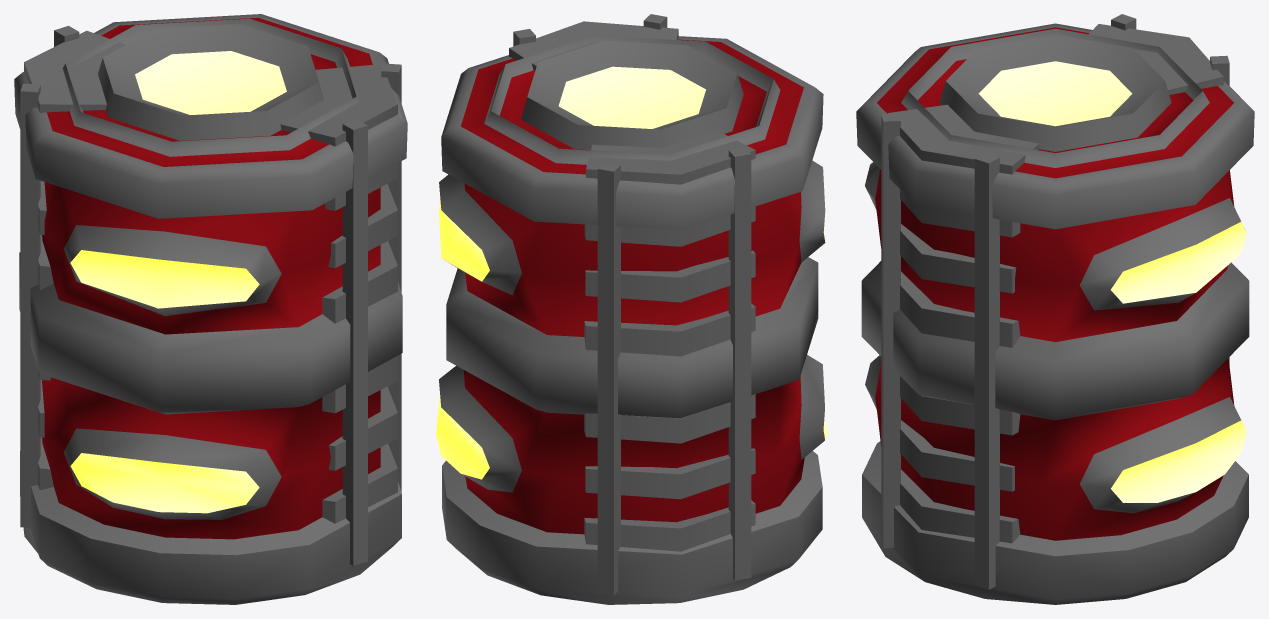
The model's file is mesh_Factory_Barrel_Outside.fbx.
3 views of the same model, side by side, from view 1: azimuth 30°, elevation 25°; view 2: azimuth 150°, elevation 25°; view 3: azimuth 270°, elevation 25° (orthographic). The views are drawn at different scales.
Visible parts, largest first — view 1: mesh_Factory_Barrels_Outside; view 2: mesh_Factory_Barrels_Outside; view 3: mesh_Factory_Barrels_Outside.
Boxes of the visible parts, x1,y1,x2,y2 form: mesh_Factory_Barrels_Outside: [14, 14, 407, 604]; mesh_Factory_Barrels_Outside: [436, 14, 827, 604]; mesh_Factory_Barrels_Outside: [856, 14, 1254, 604].
Size of the model in its own units: 2.05 by 2.53 by 2.05.
